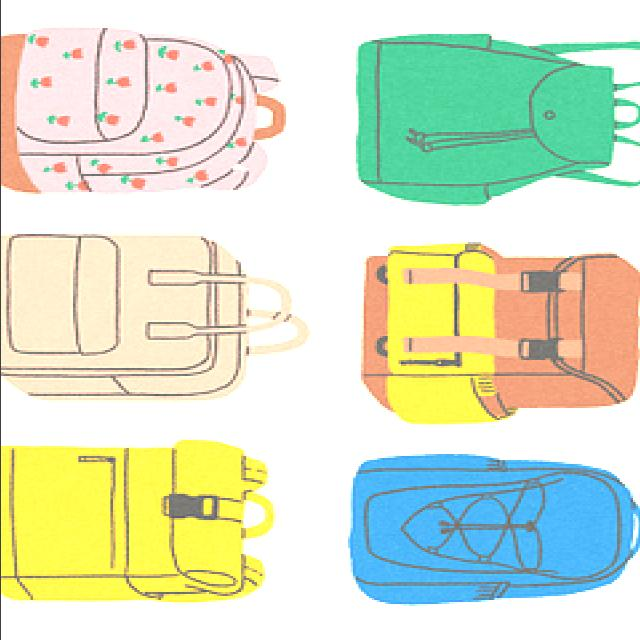backpack: (2, 225, 312, 407), (353, 239, 640, 429), (344, 29, 640, 211), (1, 30, 290, 203), (1, 436, 284, 607), (351, 453, 640, 605)
